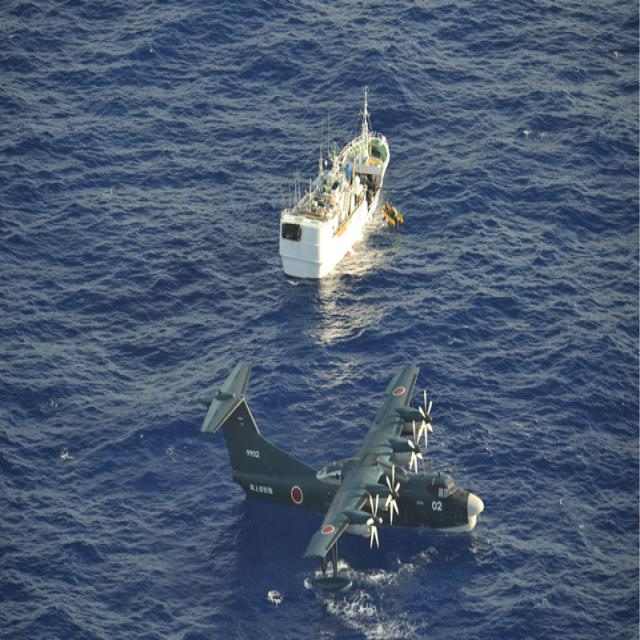MIL_Plane: (199, 361, 484, 594)
